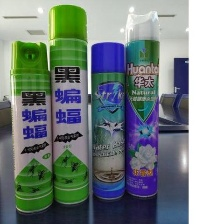aerosol_cans: (44, 1, 90, 208), (7, 38, 56, 217), (122, 9, 162, 200), (87, 39, 128, 202)
